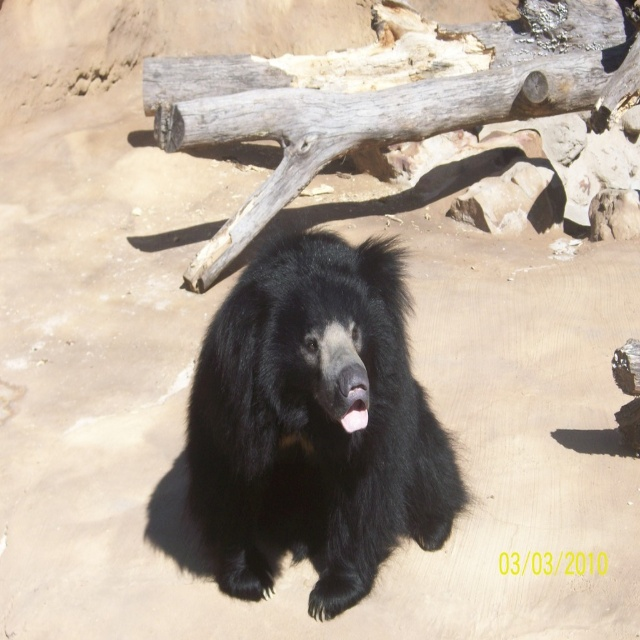Bear: (185, 220, 481, 619)
